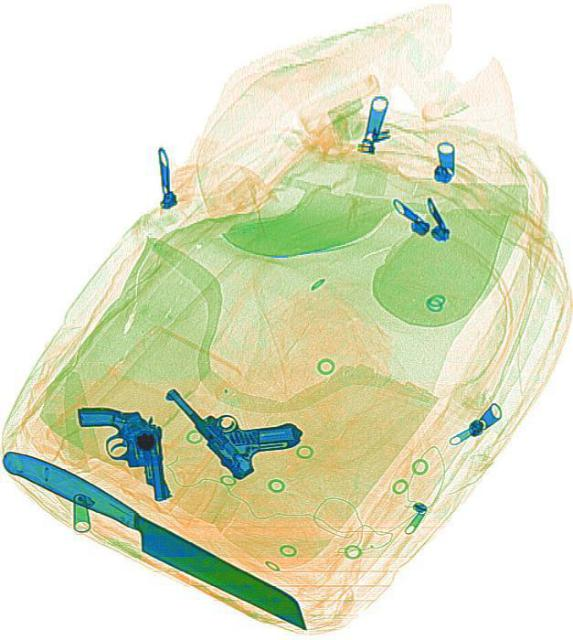Gun: (161, 339, 304, 491), (72, 388, 176, 514)
Knife: (0, 441, 317, 637)
